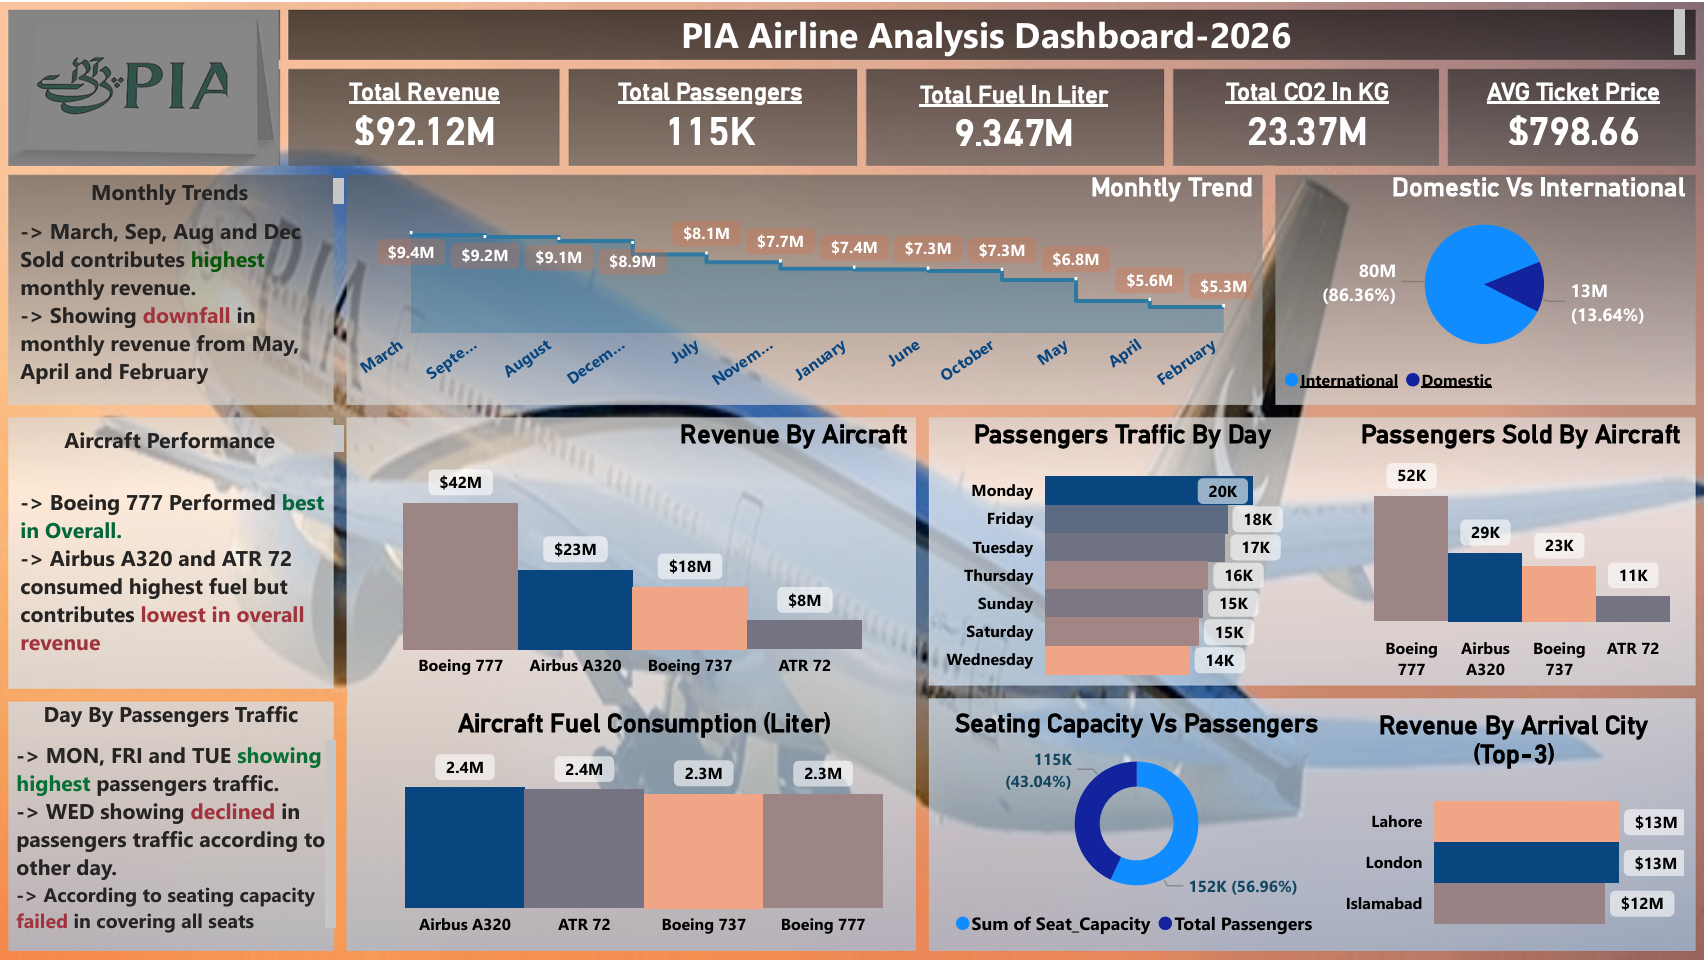

This screenshot's page, from the dashboard's own definition file:
{"tool":"powerbi","page":{"name":"pia_airline_dashboard","canvas":[1280,720],"ordinal":0},"visuals":[{"type":"textbox","box":[218.7,0,1051.1,45.3],"z":0},{"type":"card","title":"Total Revenue","fields":{"Values":["PIA_2026_Advanced_Kaggle_Dataset.Total Revenue","select"]},"box":[218.7,56.2,201.5,54.7],"z":1000},{"type":"card","title":"Total Passengers","fields":{"Values":["PIA_2026_Advanced_Kaggle_Dataset.Total Passengers"]},"box":[432.6,56.2,201.5,54.7],"z":2000},{"type":"card","title":"Total Fuel In Liter","fields":{"Values":["PIA_2026_Advanced_Kaggle_Dataset.Total Fuel Liters"]},"box":[660.7,57.8,201.5,54.7],"z":3000},{"type":"card","title":"Total CO2 In KG","fields":{"Values":["PIA_2026_Advanced_Kaggle_Dataset.Total CO2 Emissions Kg"]},"box":[880.9,56.2,201.5,54.7],"z":4000},{"type":"card","title":"AVG Ticket Price","fields":{"Values":["PIA_2026_Advanced_Kaggle_Dataset.AVG Ticket Price"]},"box":[1093.3,56.2,176.5,54.7],"z":5000},{"type":"areaChart","title":"Monhtly Trend","fields":{"Category":["PIA_2026_Advanced_Kaggle_Dataset.Month"],"Y":["PIA_2026_Advanced_Kaggle_Dataset.Total Revenue"]},"box":[263.9,126.5,682.5,174.9],"z":6000},{"type":"pieChart","title":"Domestic Vs International","fields":{"Category":["PIA_2026_Advanced_Kaggle_Dataset.Route_Type"],"Y":["PIA_2026_Advanced_Kaggle_Dataset.Total Revenue"]},"box":[959,126.5,310.8,174.9],"z":7000},{"type":"columnChart","title":"Revenue By Aircraft","fields":{"Category":["PIA_2026_Advanced_Kaggle_Dataset.Aircraft_Type"],"Y":["PIA_2026_Advanced_Kaggle_Dataset.Total Revenue"]},"box":[263.9,312.4,423.3,203],"z":8000},{"type":"barChart","title":"Passengers Traffic By Day","fields":{"Category":["PIA_2026_Advanced_Kaggle_Dataset.Day_of_Week"],"Y":["PIA_2026_Advanced_Kaggle_Dataset.Total Passengers"]},"box":[704.4,312.4,278,204.6],"z":9000},{"type":"clusteredColumnChart","title":"Passengers Sold By Aircraft","fields":{"Category":["PIA_2026_Advanced_Kaggle_Dataset.Aircraft_Type"],"Y":["PIA_2026_Advanced_Kaggle_Dataset.Total Passengers"]},"box":[1002.7,312.4,278,203],"z":10000},{"type":"clusteredColumnChart","title":"Aircraft Fuel Consumption (Liter)","fields":{"Category":["PIA_2026_Advanced_Kaggle_Dataset.Aircraft_Type"],"Y":["PIA_2026_Advanced_Kaggle_Dataset.Total Fuel Liters"]},"box":[263.9,529.5,440.4,179.6],"z":11000},{"type":"donutChart","title":"Seating Capacity Vs Passengers","fields":{"Y":["Sum(PIA_2026_Advanced_Kaggle_Dataset.Seat_Capacity)","PIA_2026_Advanced_Kaggle_Dataset.Total Passengers"]},"box":[704.4,529.5,298.3,179.6],"z":12000},{"type":"barChart","title":"Revenue By Arrival City (Top-3)","fields":{"Category":["PIA_2026_Advanced_Kaggle_Dataset.Arrival_City"],"Y":["PIA_2026_Advanced_Kaggle_Dataset.Total Revenue"]},"box":[1003.6,530.2,265.1,178],"z":13000},{"type":"textbox","box":[0,126.5,263.9,29.7],"z":14000},{"type":"textbox","box":[10.9,154.6,249.9,157.7],"z":15000},{"type":"textbox","box":[10.9,357.7,249.9,157.7],"z":16000},{"type":"textbox","box":[0,312.4,263.9,29.7],"z":17000},{"type":"textbox","box":[7.8,548.2,249.9,160.9],"z":18000},{"type":"textbox","box":[0,517,257.7,31.2],"z":19000}]}

Visuals, with their boxes in screenshot pixels (x1, y1, x2, y2), scaled from the page's 1280x720 canvas onto the 1704x960 screenshot:
textbox: [291, 0, 1690, 60]
"Total Revenue" card: [291, 75, 559, 148]
"Total Passengers" card: [576, 75, 844, 148]
"Total Fuel In Liter" card: [880, 77, 1148, 150]
"Total CO2 In KG" card: [1173, 75, 1441, 148]
"AVG Ticket Price" card: [1455, 75, 1690, 148]
"Monhtly Trend" areaChart: [351, 169, 1260, 402]
"Domestic Vs International" pieChart: [1277, 169, 1690, 402]
"Revenue By Aircraft" columnChart: [351, 417, 915, 687]
"Passengers Traffic By Day" barChart: [938, 417, 1308, 689]
"Passengers Sold By Aircraft" clusteredColumnChart: [1335, 417, 1703, 687]
"Aircraft Fuel Consumption (Liter)" clusteredColumnChart: [351, 706, 938, 945]
"Seating Capacity Vs Passengers" donutChart: [938, 706, 1335, 945]
"Revenue By Arrival City (Top-3)" barChart: [1336, 707, 1689, 944]
textbox: [0, 169, 351, 208]
textbox: [15, 206, 347, 416]
textbox: [15, 477, 347, 687]
textbox: [0, 417, 351, 456]
textbox: [10, 731, 343, 945]
textbox: [0, 689, 343, 731]
